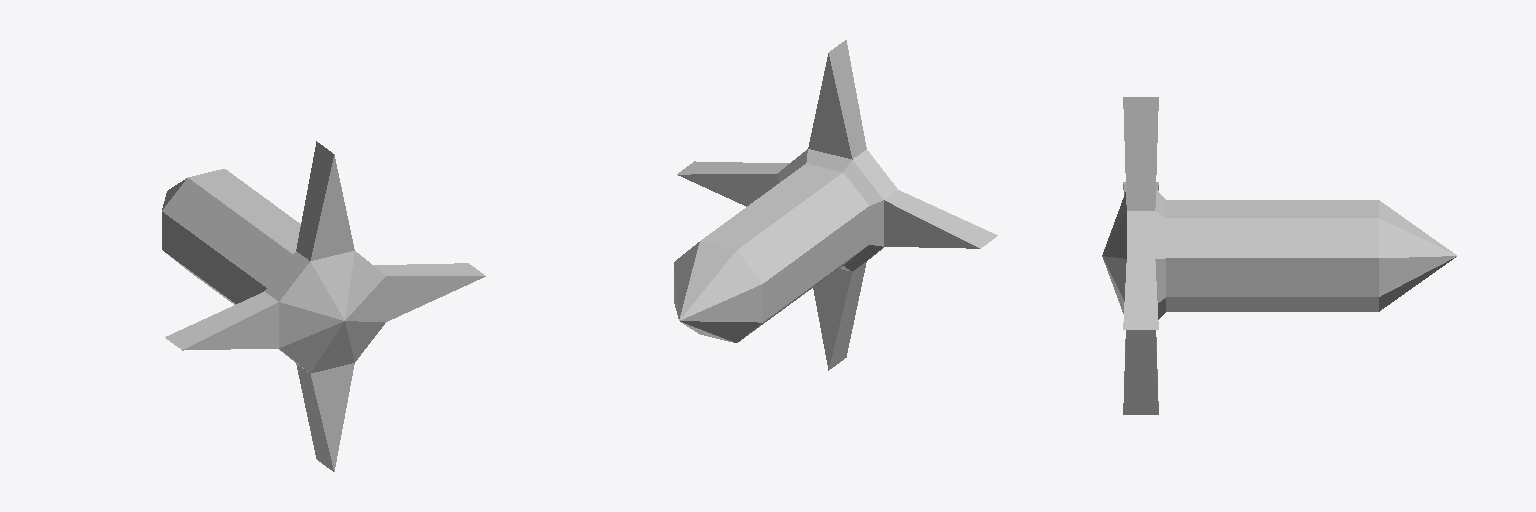
Rendered from player.obj.
3 views of the same model, side by side, from view 1: azimuth 30°, elevation 25°; view 2: azimuth 150°, elevation 25°; view 3: azimuth 270°, elevation 25° (orthographic).
Visible parts, largest first — view 1: Cylinder.001; view 2: Cylinder.001; view 3: Cylinder.001.
Boxes of the visible parts, x1,y1,x2,y2 form: Cylinder.001: [162, 141, 485, 471]; Cylinder.001: [674, 40, 997, 370]; Cylinder.001: [1102, 97, 1456, 414].
Bounding box in the file's own units: 4.48 × 4.48 × 4.54.